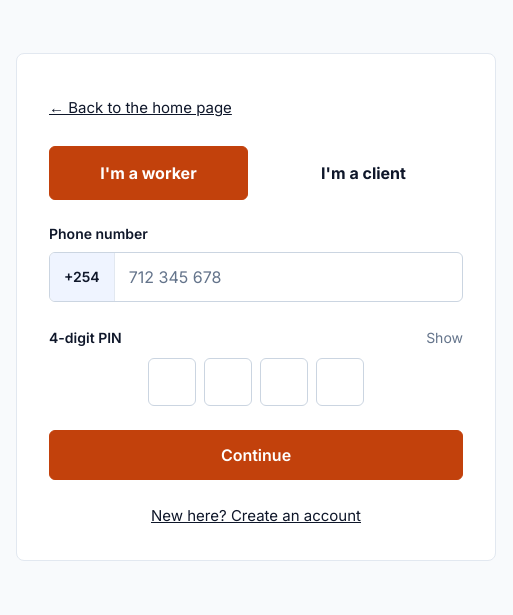
Scenario: when the service cannot be reached › offers no Try again for an error the server answered, such as a wrong PIN
Type "700000101" into the field labelled "Phone number". click: (288, 277)
box: [115, 253, 462, 301]
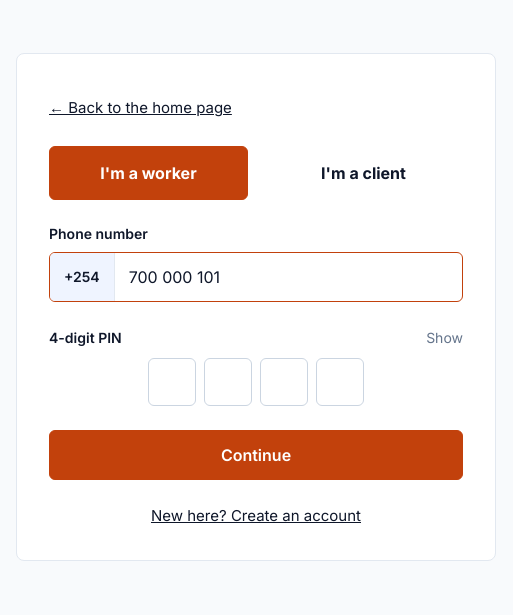
Type "4" into the password field named "4-digit PIN, digit". click: (172, 382)
box: [148, 358, 196, 406]
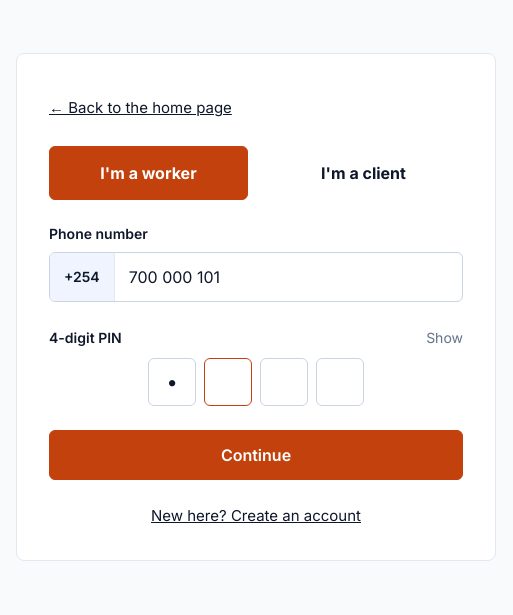
Type "8" into the password field named "4-digit PIN, digit". click: (228, 382)
box: [204, 358, 252, 406]
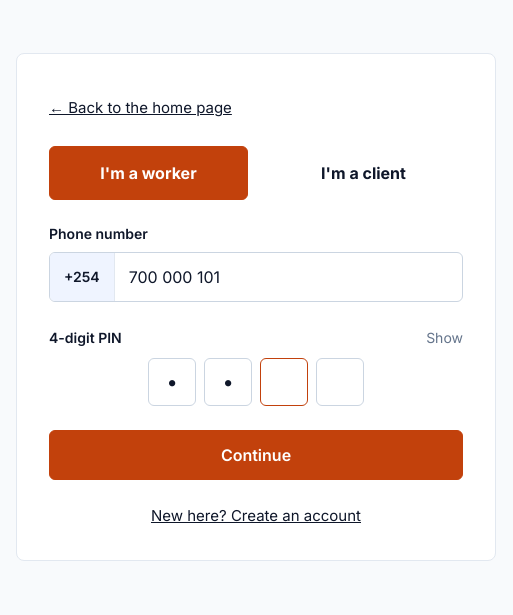
Type "2" into the password field named "4-digit PIN, digit". click: (284, 382)
box: [260, 358, 308, 406]
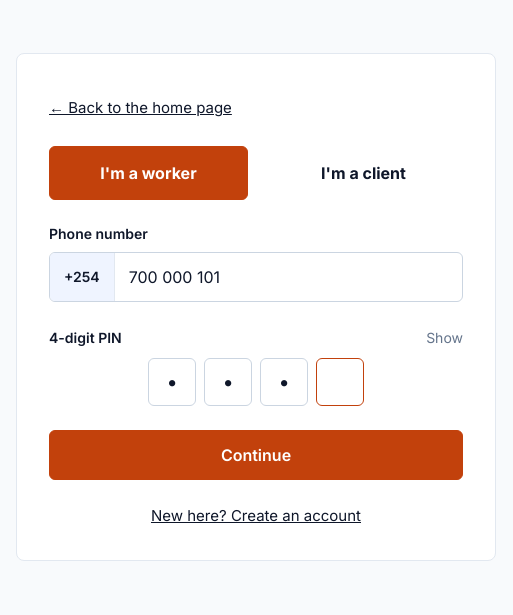
Type "1" into the password field named "4-digit PIN, digit". click: (340, 382)
box: [316, 358, 364, 406]
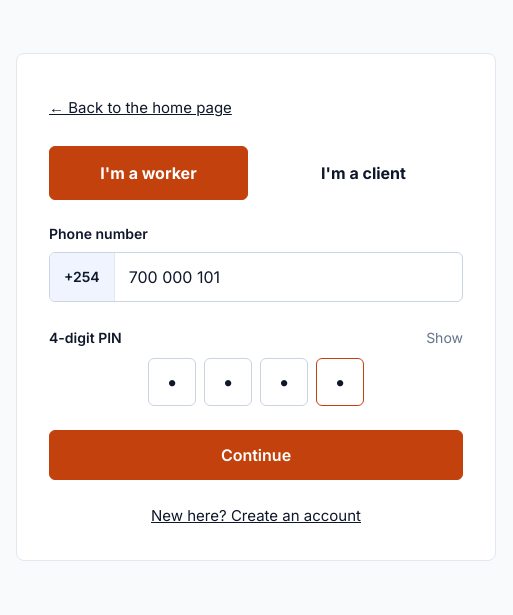
Click the button "Continue". click: (256, 455)
box: [49, 430, 463, 480]
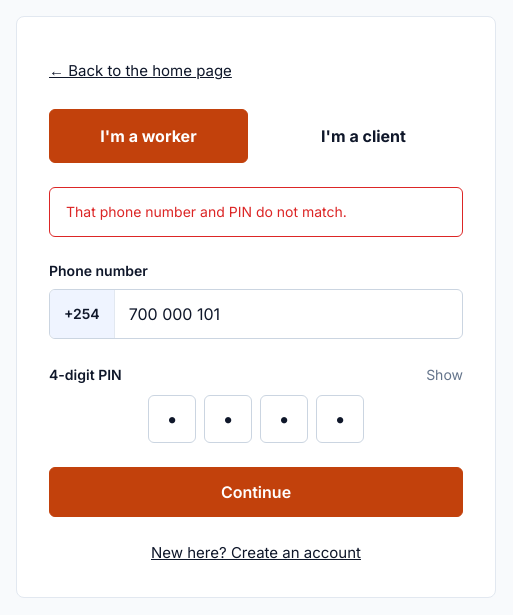
Now the message shows "do not match", box [66, 203, 347, 220]
